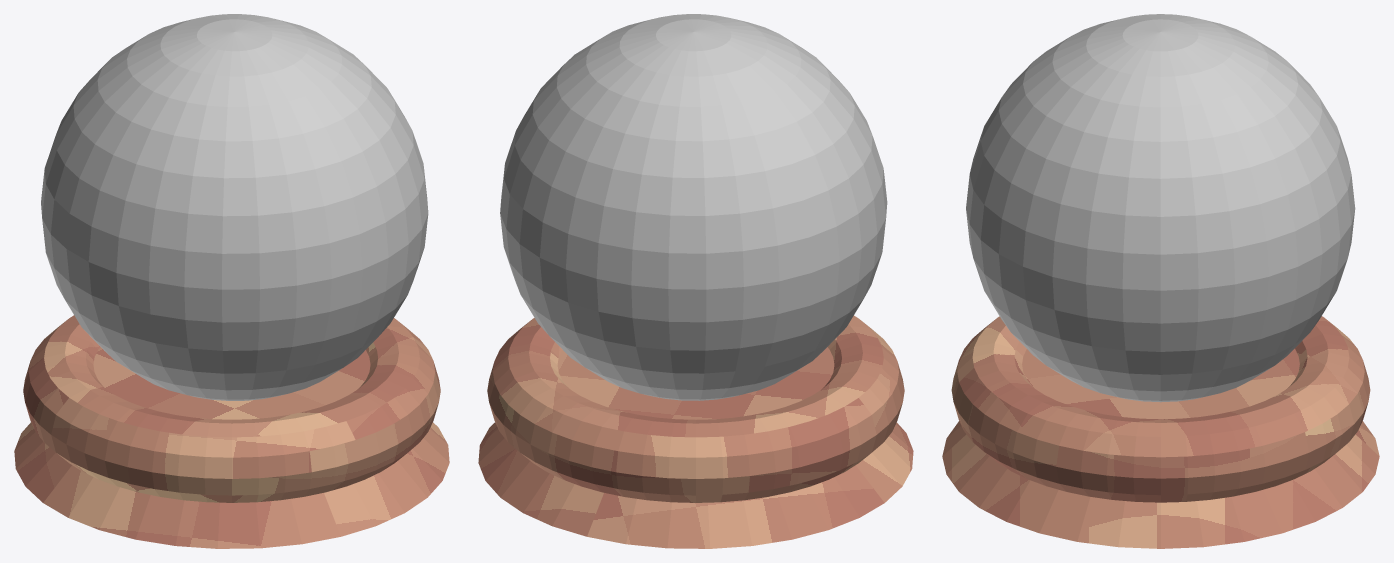
File: image_orb.obj
3 views of the same model, side by side, from view 1: azimuth 30°, elevation 25°; view 2: azimuth 150°, elevation 25°; view 3: azimuth 270°, elevation 25° (orthographic).
Visible parts, largest first — view 1: Sphere, Cylinder; view 2: Sphere, Cylinder; view 3: Sphere, Cylinder.
Boxes of the visible parts, box(x1,y1,x2,y2) form: Sphere: box(41, 14, 428, 400); Cylinder: box(14, 315, 449, 548); Sphere: box(500, 14, 887, 400); Cylinder: box(478, 315, 913, 548); Sphere: box(966, 14, 1355, 402); Cylinder: box(942, 316, 1379, 548).
Bounding box in the file's own units: 1.38 × 1.48 × 1.38.
